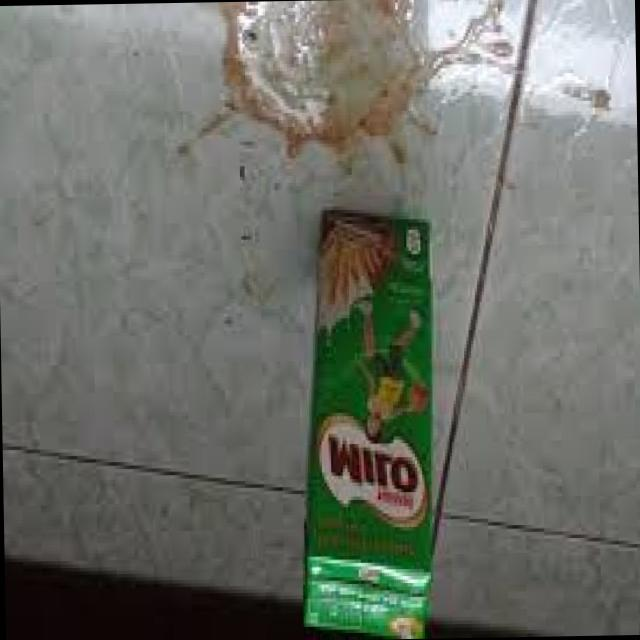sua milo: (293, 209, 450, 640)
